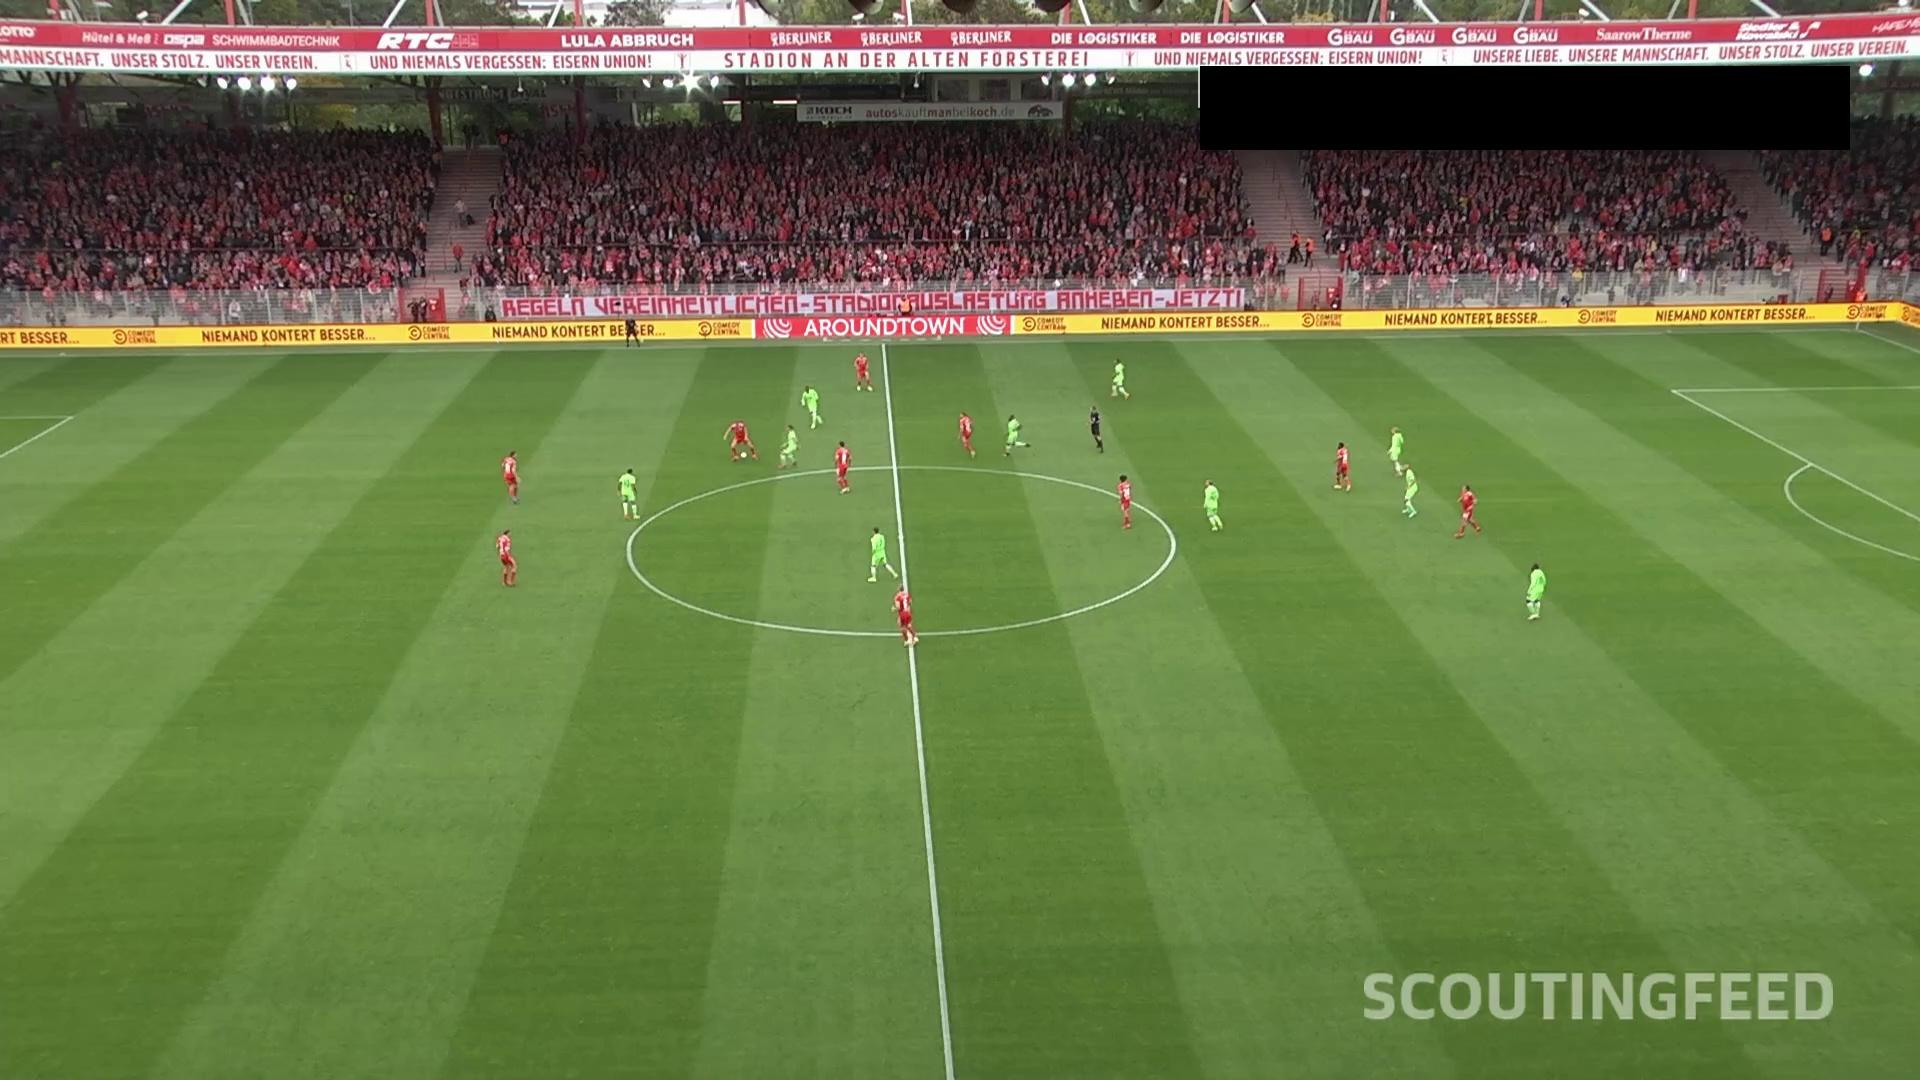Location-of-ball: (727, 447, 764, 467)
